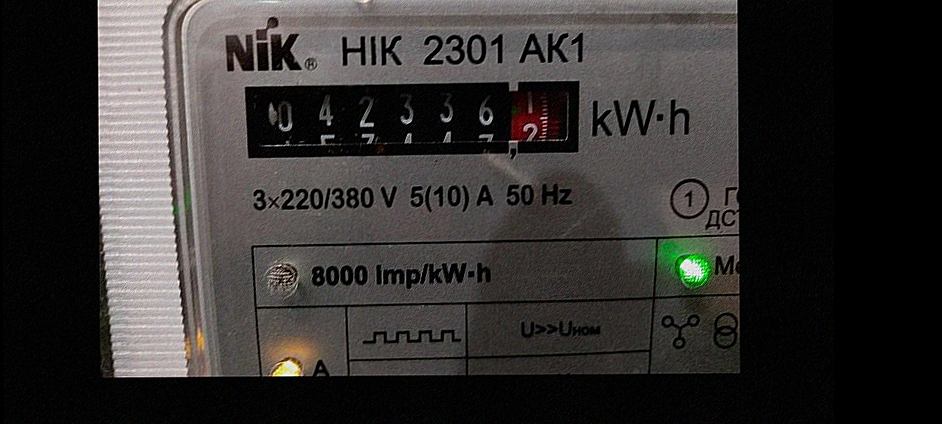0: (275, 97, 295, 132)
1: (523, 86, 536, 116)
2: (356, 93, 376, 129), (520, 120, 539, 142)
3: (397, 88, 416, 126), (435, 88, 455, 124)
4: (316, 90, 335, 127)
6: (474, 91, 496, 126)
screen: (237, 70, 590, 166)
